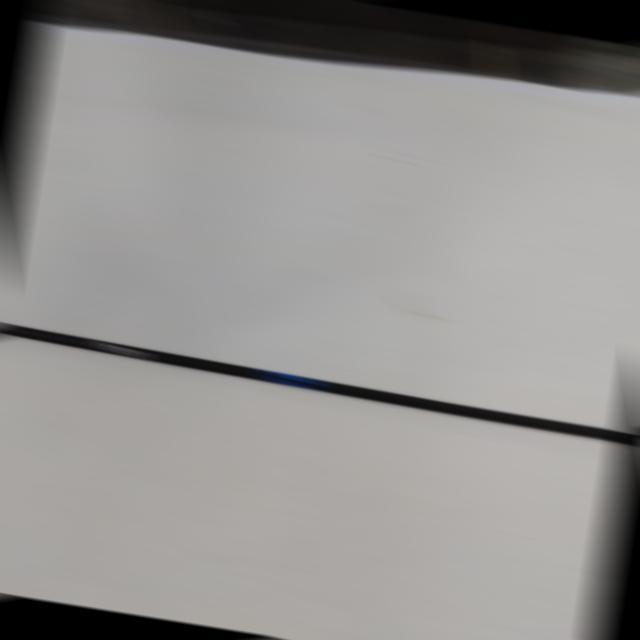blue: (265, 370, 317, 390)
